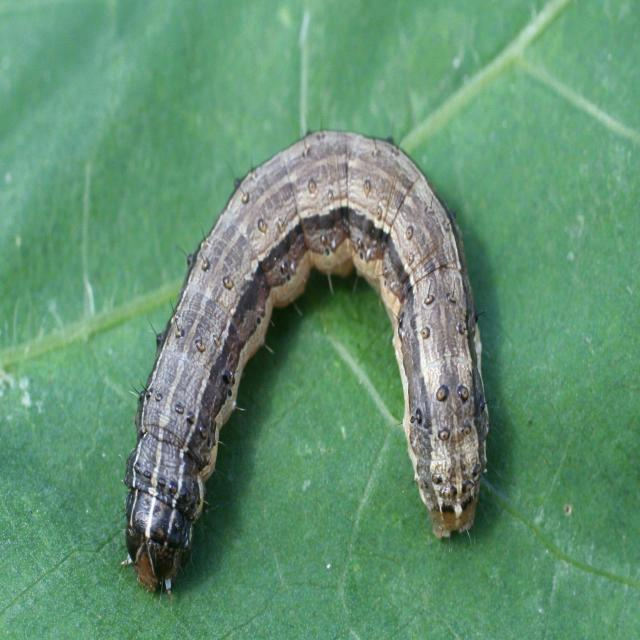Army worm: (119, 126, 492, 599)
Cotton Ball Rot: (432, 381, 452, 409)
Healthy: (2, 4, 637, 636)
